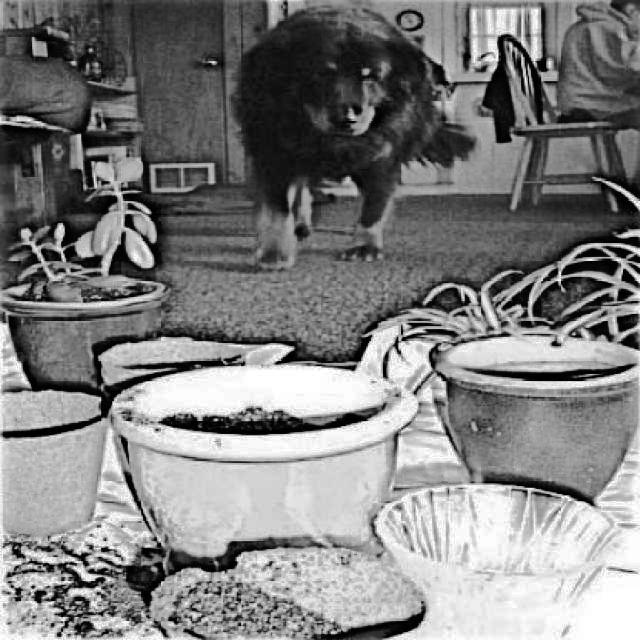Dog: (222, 0, 476, 282)
